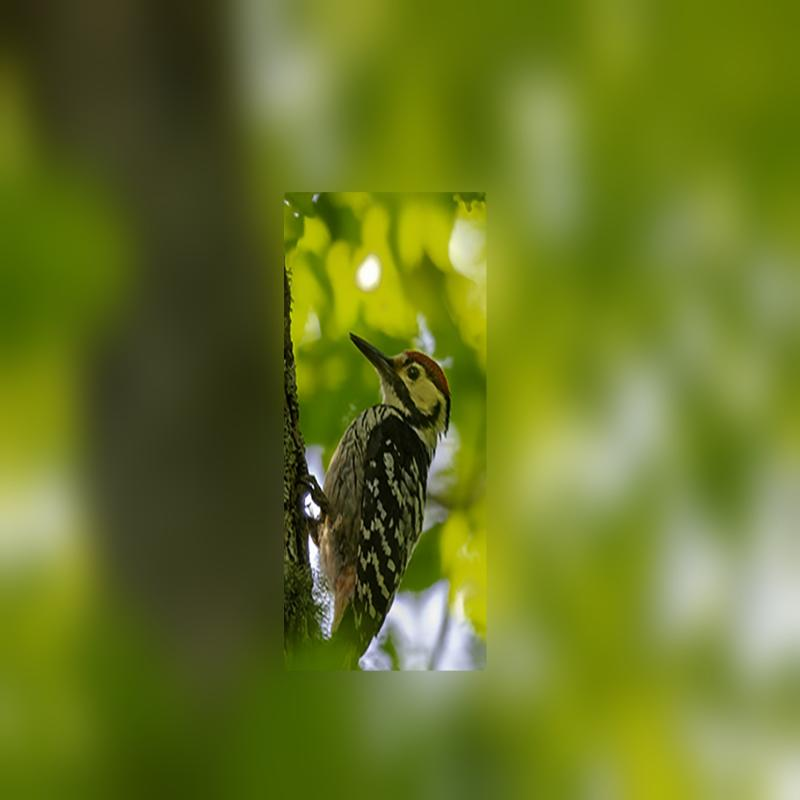white-backed woodpecker: (299, 316, 455, 670)
